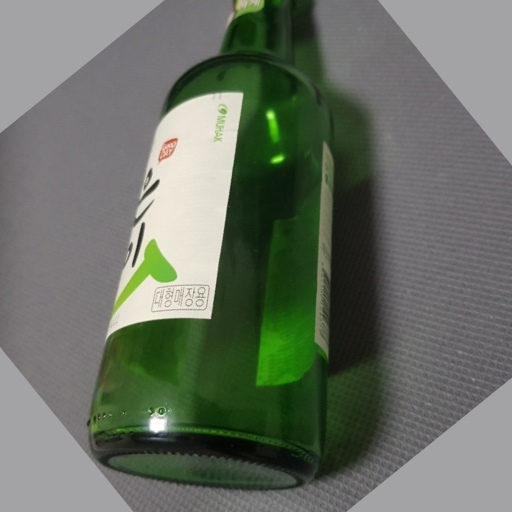Glass_0: (87, 1, 342, 495)
